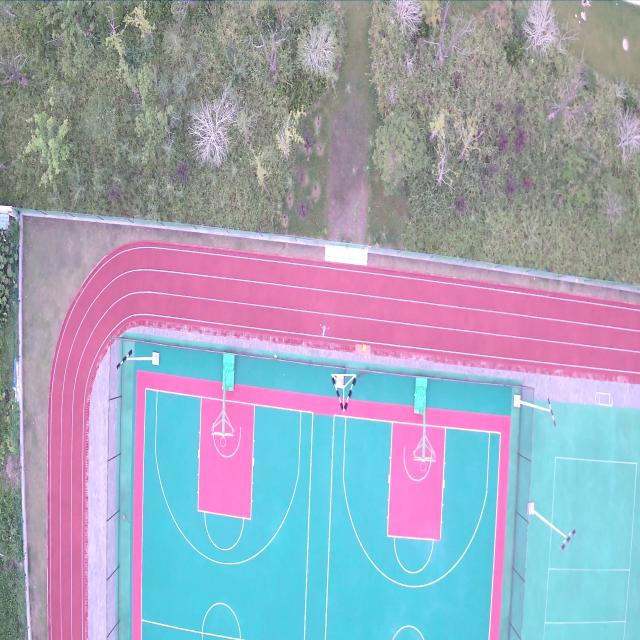UAV: (317, 323, 329, 339)
